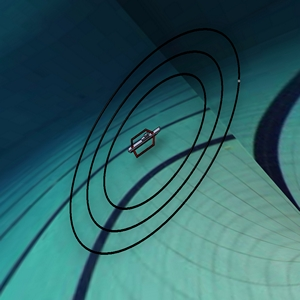circle: (59, 10, 252, 264)
submarine: (124, 123, 167, 163)
